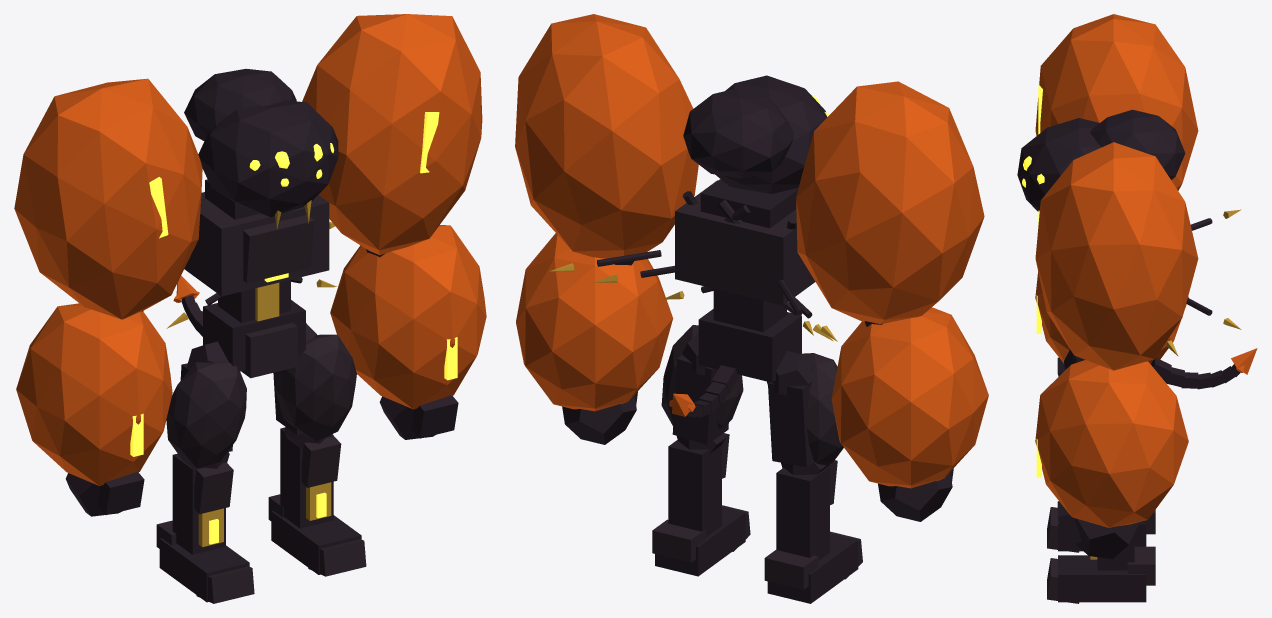
Rendered from beast-hangar-arakhne-v1.glb.
The picture shows the model from 3 angles, left to right: view 1: azimuth 30°, elevation 25°; view 2: azimuth 150°, elevation 25°; view 3: azimuth 270°, elevation 25°; orthographic projection. The views are drawn at different scales.
Parts seen in each view (by area): view 1: surface_9, surface_16, arms_1, arms_2, surface_45, surface_25, surface_5, surface_36, surface_46, surface_6, surface_1, surface_31 (+19 smaller); view 2: surface_9, surface_16, arms_1, arms_2, surface_5, surface_46, surface_1, surface_45, surface_27, surface_38, surface_24, surface_25 (+11 smaller); view 3: surface_16, arms_2, surface_9, surface_45, surface_42, surface_46, surface_21, arms_1, surface_44, surface_38, surface_22, surface_31 (+3 smaller).
Part boxes in pixels (x1=…): surface_9: x1=14, y1=78, x2=202, y2=319; surface_16: x1=302, y1=14, x2=482, y2=255; arms_1: x1=16, y1=303, x2=172, y2=485; arms_2: x1=330, y1=225, x2=486, y2=409; surface_45: x1=198, y1=100, x2=338, y2=217; surface_25: x1=166, y1=362, x2=246, y2=468; surface_5: x1=184, y1=192, x2=329, y2=296; surface_36: x1=275, y1=334, x2=356, y2=441; surface_46: x1=184, y1=68, x2=296, y2=140; surface_6: x1=243, y1=215, x2=314, y2=283; surface_1: x1=203, y1=300, x2=305, y2=371; surface_31: x1=159, y1=538, x2=249, y2=602; surface_9: x1=796, y1=81, x2=984, y2=323; surface_16: x1=515, y1=14, x2=698, y2=258; arms_1: x1=831, y1=307, x2=988, y2=488; arms_2: x1=516, y1=233, x2=673, y2=411; surface_5: x1=675, y1=180, x2=815, y2=305; surface_46: x1=683, y1=88, x2=793, y2=178; surface_1: x1=698, y1=309, x2=801, y2=382; surface_45: x1=715, y1=75, x2=827, y2=193; surface_27: x1=776, y1=466, x2=829, y2=560; surface_38: x1=668, y1=440, x2=721, y2=537; surface_24: x1=768, y1=382, x2=813, y2=467; surface_25: x1=800, y1=353, x2=843, y2=466; surface_16: x1=1035, y1=142, x2=1198, y2=370; arms_2: x1=1035, y1=360, x2=1188, y2=527; surface_9: x1=1035, y1=14, x2=1198, y2=190; surface_45: x1=1017, y1=118, x2=1100, y2=211; surface_42: x1=1058, y1=555, x2=1146, y2=602; surface_46: x1=1090, y1=109, x2=1185, y2=179; surface_21: x1=1075, y1=518, x2=1138, y2=558; arms_1: x1=1035, y1=271, x2=1188, y2=363; surface_44: x1=1127, y1=546, x2=1155, y2=585; surface_38: x1=1097, y1=533, x2=1134, y2=570; surface_22: x1=1057, y1=501, x2=1081, y2=545; surface_31: x1=1058, y1=519, x2=1146, y2=551.
Bounding box in the file's own units: 10.41 × 11.39 × 5.16.
